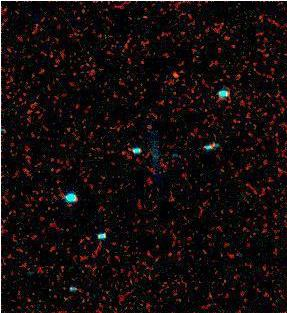star: (161, 59, 191, 89)
